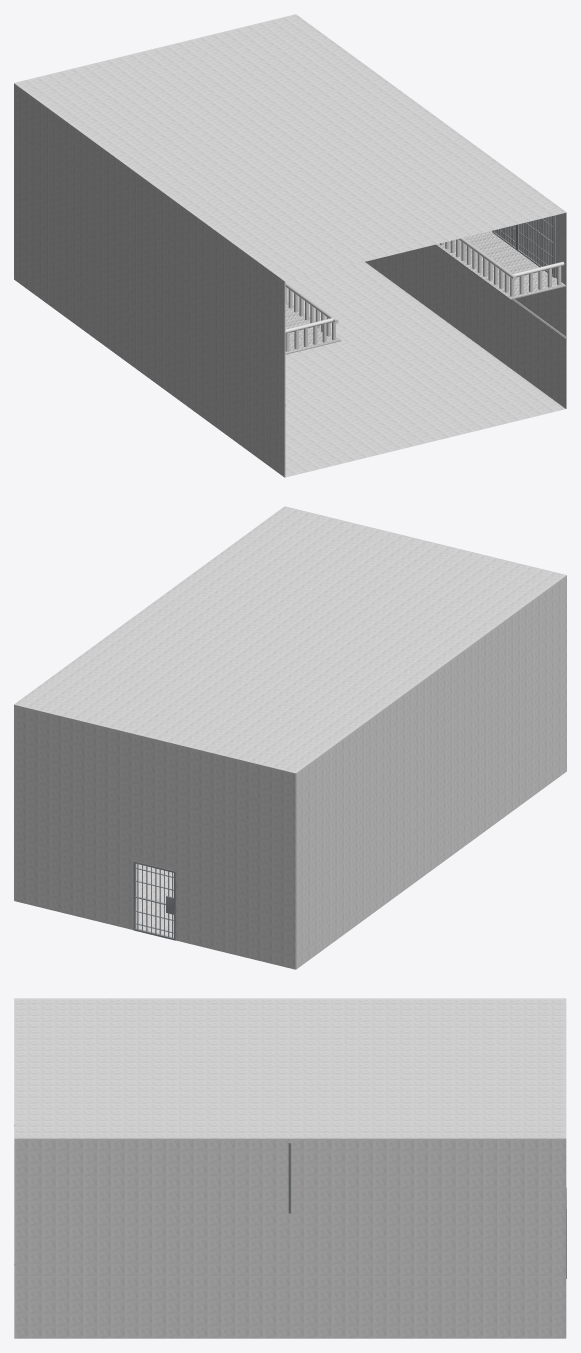
The model's file is Esneario V16.FBX.
3 renders of one model, top to bottom at view 1: azimuth 30°, elevation 25°; view 2: azimuth 150°, elevation 25°; view 3: azimuth 270°, elevation 25°, orthographic.
Parts seen in each view (by area): view 1: Plane002, Box014, Plane001, Box015, Box017, Box018; view 2: Plane002, Box014, Box016, Plane001; view 3: Box015, Plane002, Box014.
Boxes of the visible parts, left/top/right/bottom form: Plane002: left=15, top=14, right=565, bottom=280; Box014: left=14, top=83, right=285, bottom=477; Plane001: left=285, top=262, right=565, bottom=477; Box015: left=295, top=14, right=566, bottom=408; Box017: left=435, top=231, right=566, bottom=299; Box018: left=285, top=301, right=341, bottom=354; Plane002: left=15, top=506, right=565, bottom=772; Box014: left=296, top=575, right=566, bottom=969; Box016: left=14, top=704, right=295, bottom=969; Plane001: left=136, top=864, right=173, bottom=937; Box015: left=14, top=1138, right=565, bottom=1338; Plane002: left=14, top=998, right=565, bottom=1138; Box014: left=14, top=998, right=565, bottom=998.
Bounding box in the file's own units: 302 × 200 × 501.
38 materials, 38 textured.
